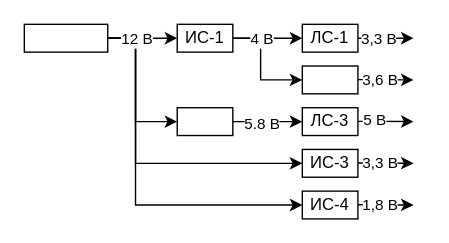
Some shapes in this 449 by 243 pixel diagram are drawn without their labels. The shapes that lost their labels are listed below. From the top down, each one's centre as x and y in pixels, then its label:
At pixel 65 37: "DS-201".
At pixel 329 79: "ЛС-2".
At pixel 204 121: "ИС-2".
